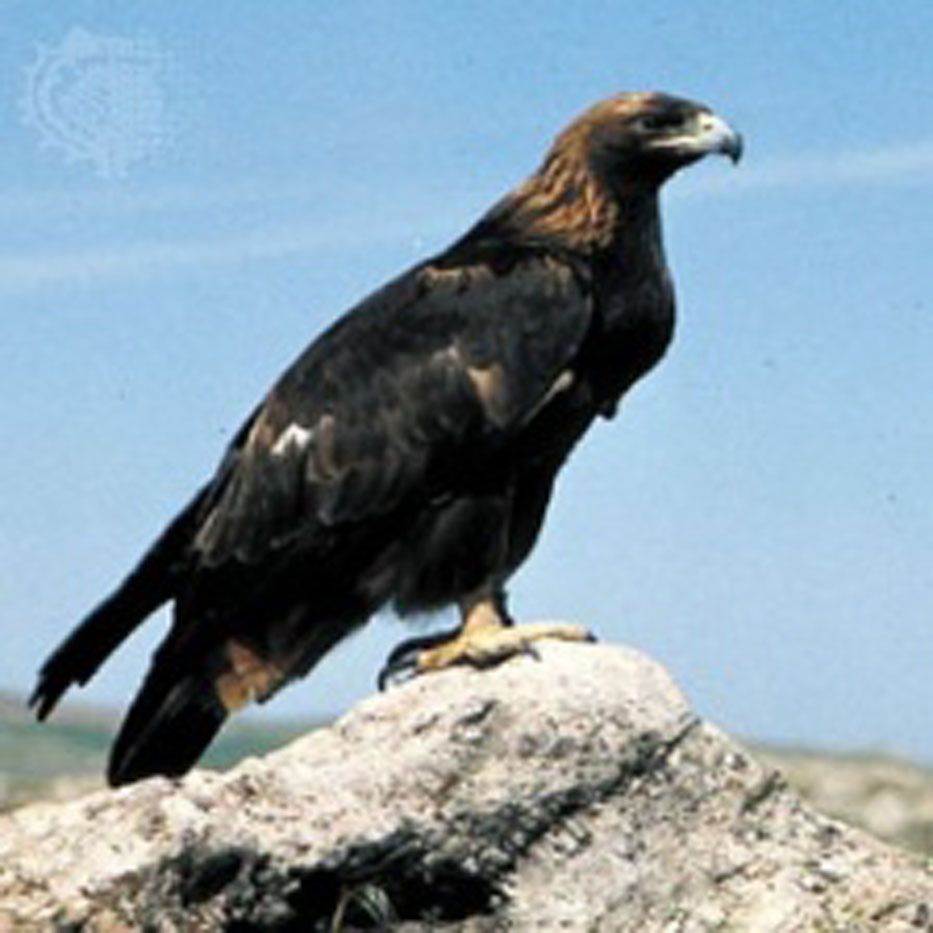Pengoyak Daging: (706, 109, 762, 186)
